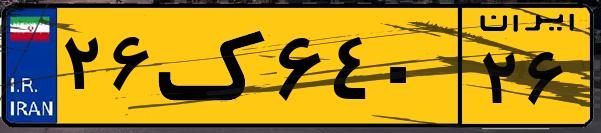0: (385, 28, 445, 110)
2: (57, 26, 110, 100), (475, 38, 525, 113)
4: (330, 28, 385, 110)
6: (270, 28, 330, 110), (525, 38, 570, 115), (110, 28, 158, 98)
ک: (158, 12, 270, 120)
